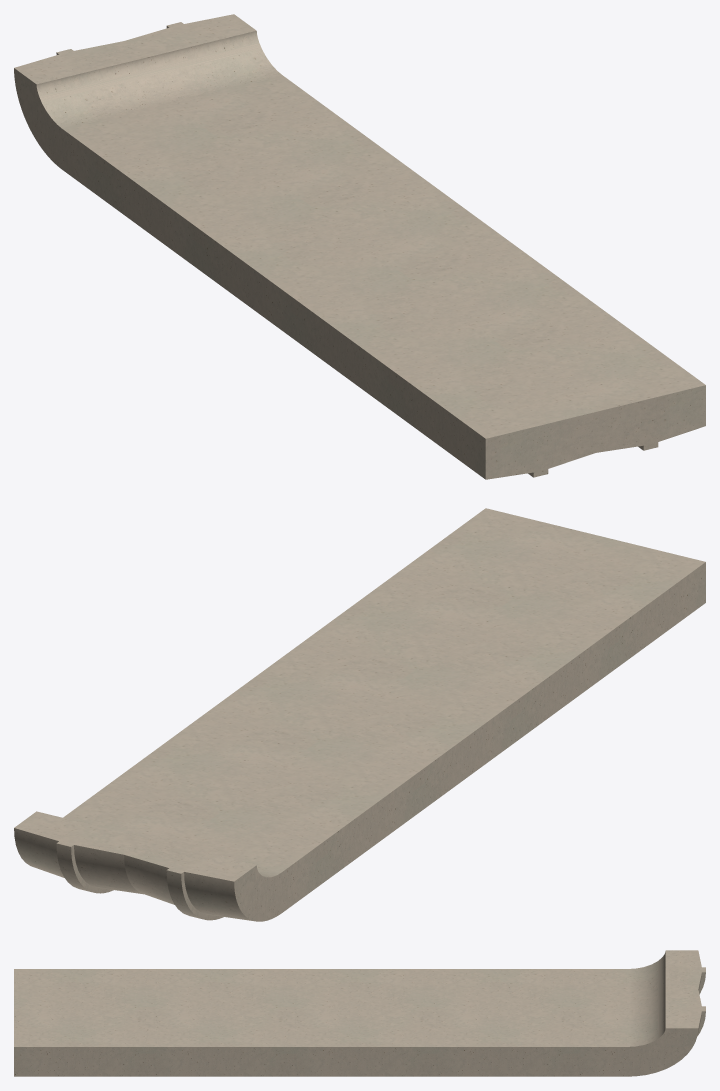
3 views of the same model, one above another, from view 1: azimuth 30°, elevation 25°; view 2: azimuth 150°, elevation 25°; view 3: azimuth 270°, elevation 25° (orthographic). The views are drawn at different scales.
Visible parts, largest first — view 1: B3.SLDPRT; view 2: B3.SLDPRT; view 3: B3.SLDPRT.
Boxes of the visible parts, left/top/right/bottom form: B3.SLDPRT: left=14, top=14, right=705, bottom=479; B3.SLDPRT: left=14, top=508, right=705, bottom=921; B3.SLDPRT: left=14, top=950, right=705, bottom=1076.
Size of the model in its own units: 0.225 by 0.0743 by 0.8443.
Materials: 1 (1 with a texture image).
